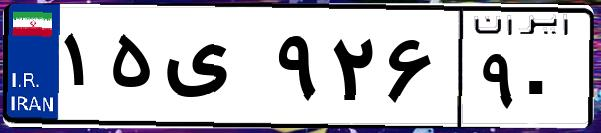0: (525, 38, 570, 115)
1: (57, 26, 110, 100)
2: (330, 28, 385, 110)
5: (110, 28, 158, 98)
6: (385, 28, 445, 110)
9: (270, 28, 330, 110), (475, 38, 525, 113)
ی: (158, 20, 270, 120)
